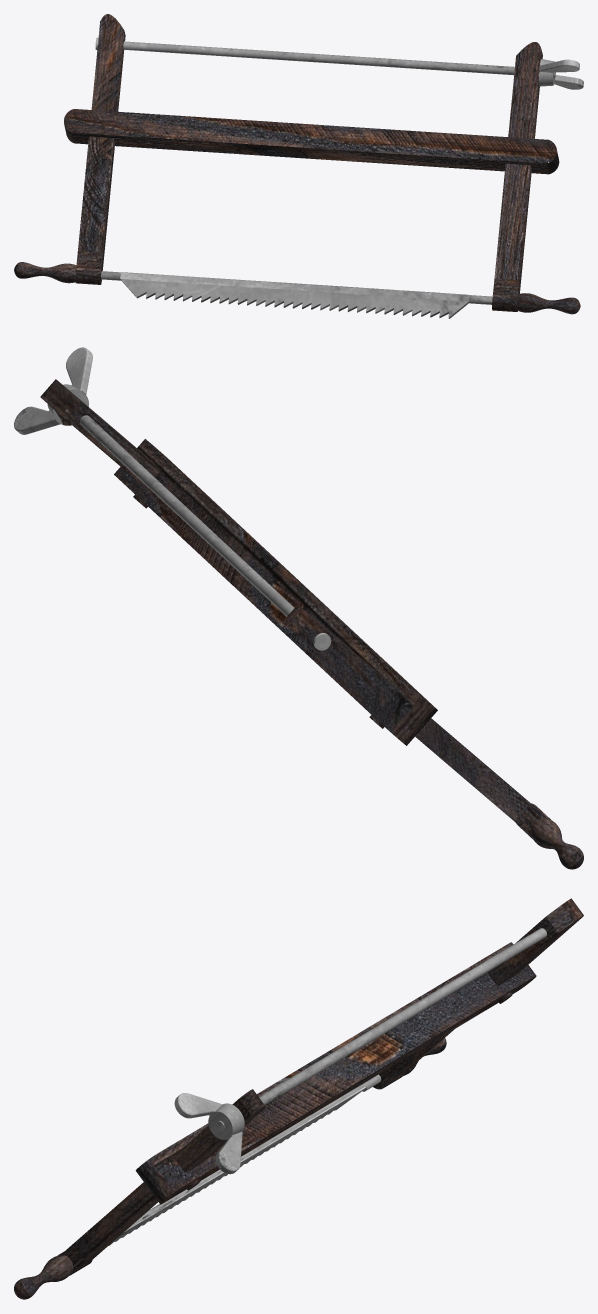
File: säge_ausgerichtet.glb
3 renders of one model, top to bottom at view 1: azimuth 30°, elevation 25°; view 2: azimuth 150°, elevation 25°; view 3: azimuth 270°, elevation 25°, orthographic. The views are drawn at different scales.
Parts seen in each view (by area): view 1: Body3, Body2, Body16, Body1, Body11, Body15, Body7, Body6, Body4, Body5; view 2: Body3, Body1, Body2, Body11, Body6; view 3: Body3, Body2, Body11, Body1, Body15, Body16, Body7.
Part boxes in pixels (bbox=[...]): Body3: bbox=[64, 109, 559, 174]; Body2: bbox=[494, 42, 583, 284]; Body16: bbox=[121, 272, 468, 318]; Body1: bbox=[78, 14, 125, 257]; Body11: bbox=[123, 41, 555, 77]; Body15: bbox=[101, 271, 492, 304]; Body7: bbox=[517, 293, 580, 314]; Body6: bbox=[14, 262, 76, 283]; Body4: bbox=[75, 251, 103, 284]; Body5: bbox=[492, 278, 520, 311]; Body3: bbox=[114, 439, 437, 745]; Body1: bbox=[282, 605, 529, 821]; Body2: bbox=[14, 347, 160, 487]; Body11: bbox=[80, 415, 294, 616]; Body6: bbox=[530, 818, 583, 869]; Body3: bbox=[135, 942, 536, 1204]; Body2: bbox=[73, 1089, 265, 1260]; Body11: bbox=[215, 928, 546, 1131]; Body1: bbox=[392, 898, 583, 1073]; Body15: bbox=[119, 1074, 381, 1236]; Body16: bbox=[108, 1087, 365, 1245]; Body7: bbox=[14, 1255, 73, 1299].
Size of the model in its own units: 0.1759 by 0.0714 by 0.1435.
1 material, 1 textured.
